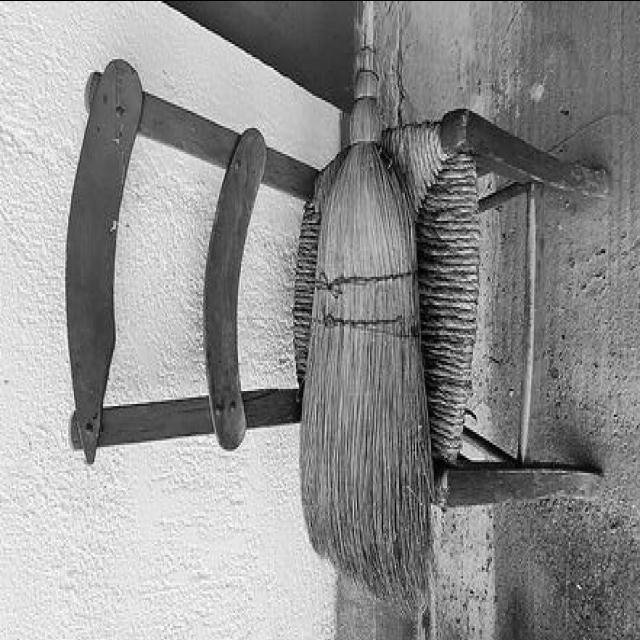chair: (64, 56, 605, 512)
